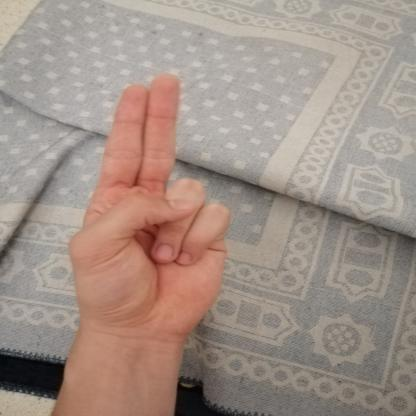TA: (50, 61, 252, 358)
